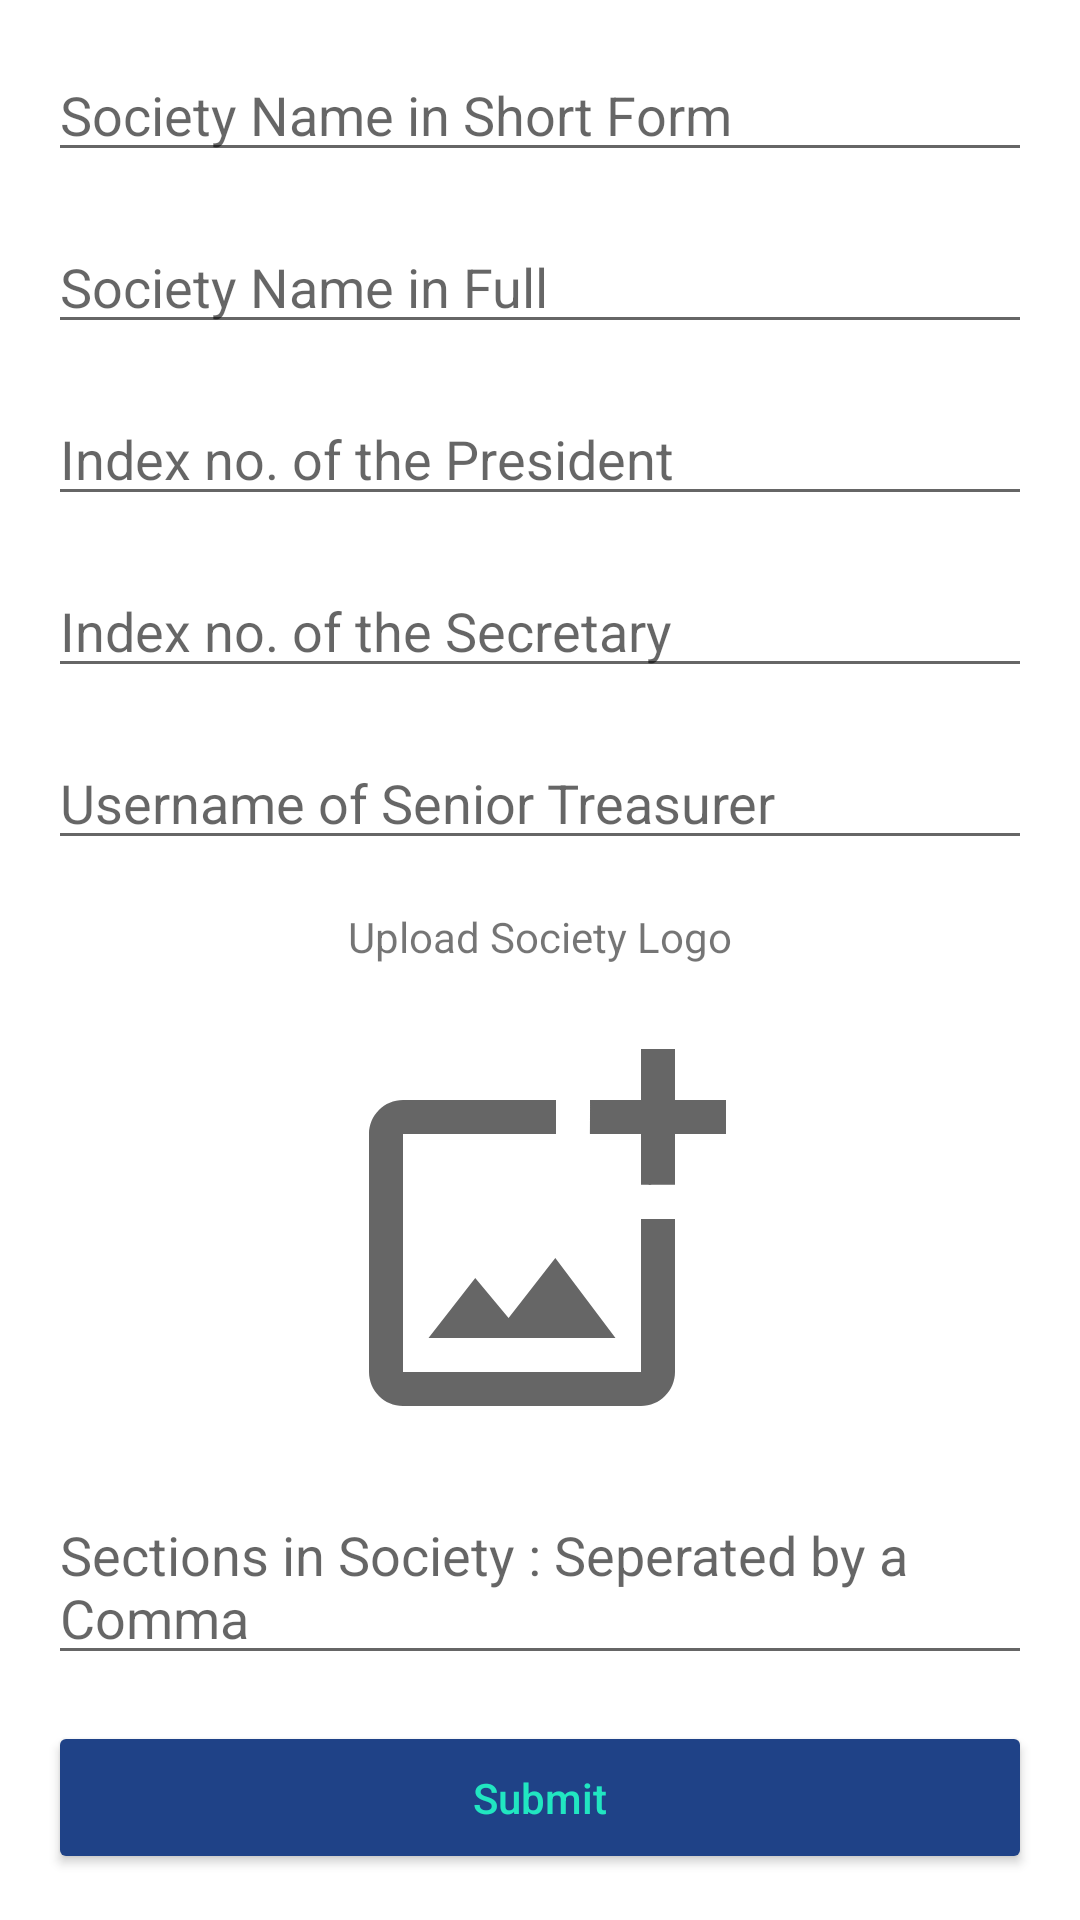

Icons on this 1080 × 1920 Android screen, each with its box as (x1, y1, x2, y2):
addimage: (369, 1049, 726, 1406)
